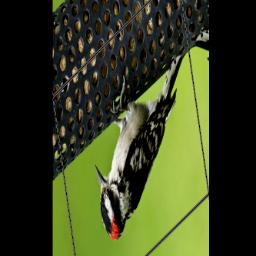Woodpecker: (85, 26, 197, 253)
